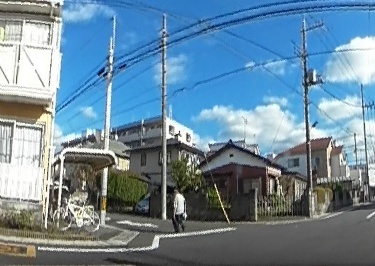person: (169, 185, 186, 230)
